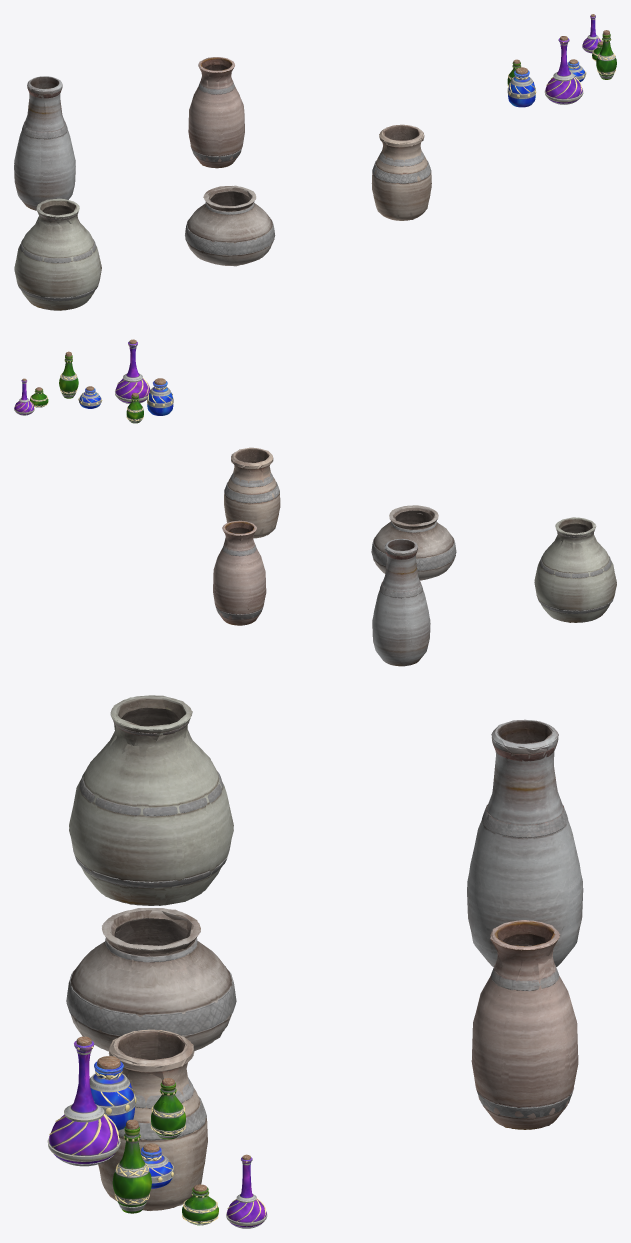
File: Potions and Urns A.fbx
3 renders of one model, top to bottom at view 1: azimuth 30°, elevation 25°; view 2: azimuth 150°, elevation 25°; view 3: azimuth 270°, elevation 25°, orthographic. The views are drawn at different scales.
Visible parts, largest first — view 1: Urn_1A5, Urn_1A4, Urn_1A3, Urn_1A2, Urn_1A1, Urn_1A5.001, Urn_1A5.002, Urn_1A1.001, Urn_1A3.002, Urn_1A2.001, Urn_1A4.001, Urn_1A4.002 (+7 smaller); view 2: Urn_1A5, Urn_1A4, Urn_1A1, Urn_1A2, Urn_1A3, Urn_1A5.002, Urn_1A5.001, Urn_1A1.001, Urn_1A4.001, Urn_1A4.002, Urn_1A1.002, Urn_1A3.001 (+6 smaller); view 3: Urn_1A5, Urn_1A4, Urn_1A3, Urn_1A1, Urn_1A5.001, Urn_1A5.002, Urn_1A2, Urn_1A1.001, Urn_1A4.001, Urn_1A3.002, Urn_1A3.001, Urn_1A4.002 (+14 smaller).
Part boxes in pixels (x1=…): Urn_1A5: x1=14, y1=199, x2=101, y2=310; Urn_1A4: x1=14, y1=76, x2=75, y2=208; Urn_1A3: x1=185, y1=186, x2=275, y2=265; Urn_1A2: x1=371, y1=124, x2=431, y2=220; Urn_1A1: x1=188, y1=57, x2=244, y2=168; Urn_1A5.001: x1=15, y1=198, x2=101, y2=310; Urn_1A5.002: x1=14, y1=198, x2=99, y2=310; Urn_1A1.001: x1=188, y1=57, x2=244, y2=168; Urn_1A3.002: x1=185, y1=185, x2=274, y2=266; Urn_1A2.001: x1=372, y1=124, x2=431, y2=220; Urn_1A4.001: x1=14, y1=76, x2=75, y2=209; Urn_1A4.002: x1=14, y1=76, x2=75, y2=210; Urn_1A5: x1=534, y1=517, x2=616, y2=622; Urn_1A4: x1=372, y1=539, x2=430, y2=666; Urn_1A1: x1=213, y1=520, x2=266, y2=625; Urn_1A2: x1=224, y1=448, x2=280, y2=538; Urn_1A3: x1=371, y1=505, x2=456, y2=579; Urn_1A5.002: x1=534, y1=517, x2=616, y2=622; Urn_1A5.001: x1=534, y1=517, x2=615, y2=621; Urn_1A1.001: x1=213, y1=520, x2=266, y2=625; Urn_1A4.001: x1=372, y1=539, x2=430, y2=666; Urn_1A4.002: x1=372, y1=539, x2=428, y2=666; Urn_1A1.002: x1=213, y1=521, x2=266, y2=625; Urn_1A3.001: x1=373, y1=505, x2=454, y2=579; Urn_1A5: x1=69, y1=695, x2=233, y2=905; Urn_1A4: x1=467, y1=719, x2=583, y2=966; Urn_1A3: x1=66, y1=908, x2=236, y2=1049; Urn_1A1: x1=471, y1=920, x2=578, y2=1129; Urn_1A5.001: x1=70, y1=695, x2=233, y2=905; Urn_1A5.002: x1=69, y1=695, x2=233, y2=905; Urn_1A2: x1=98, y1=1029, x2=207, y2=1210; Urn_1A1.001: x1=471, y1=920, x2=578, y2=1129; Urn_1A4.001: x1=467, y1=720, x2=582, y2=966; Urn_1A3.002: x1=70, y1=909, x2=232, y2=1050; Urn_1A3.001: x1=66, y1=908, x2=235, y2=1051; Urn_1A4.002: x1=467, y1=720, x2=582, y2=966.
Size of the model in its own units: 707 by 172 by 287.
